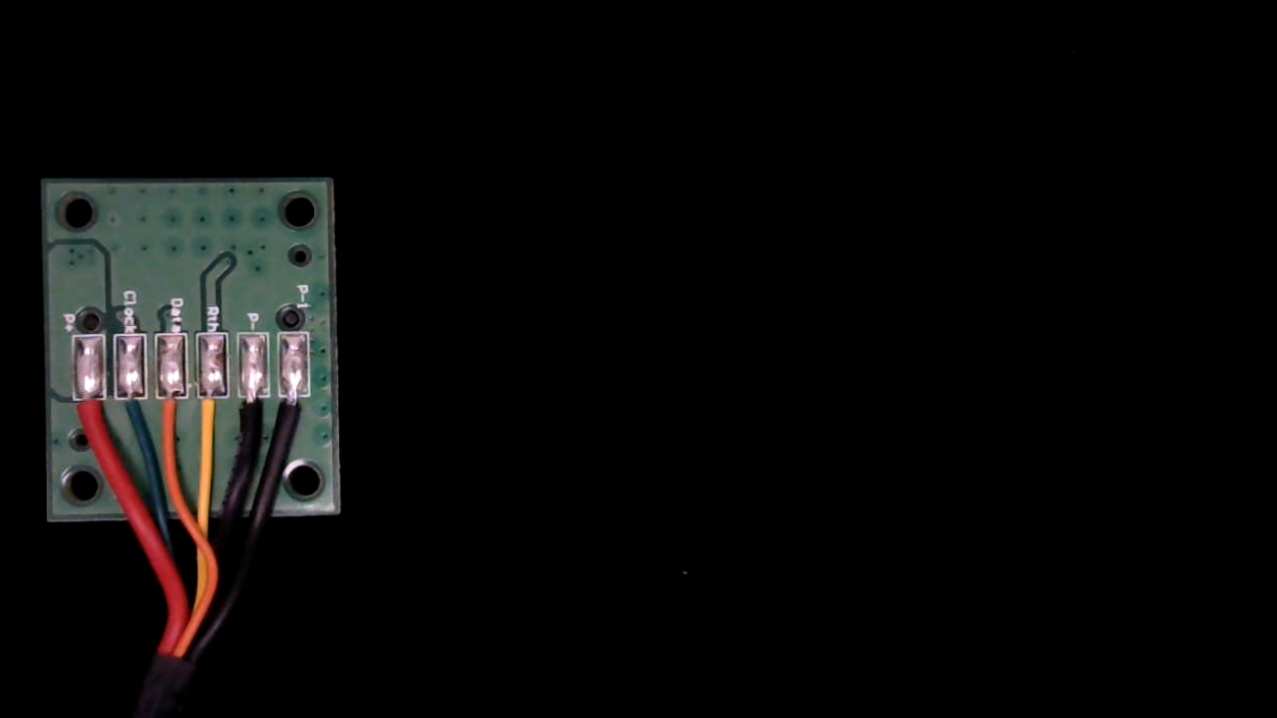Black: (236, 383, 268, 453)
Black1: (278, 383, 312, 451)
Green: (113, 383, 149, 454)
Orange: (156, 383, 190, 456)
Red: (71, 386, 107, 457)
Yellow: (193, 384, 229, 459)
